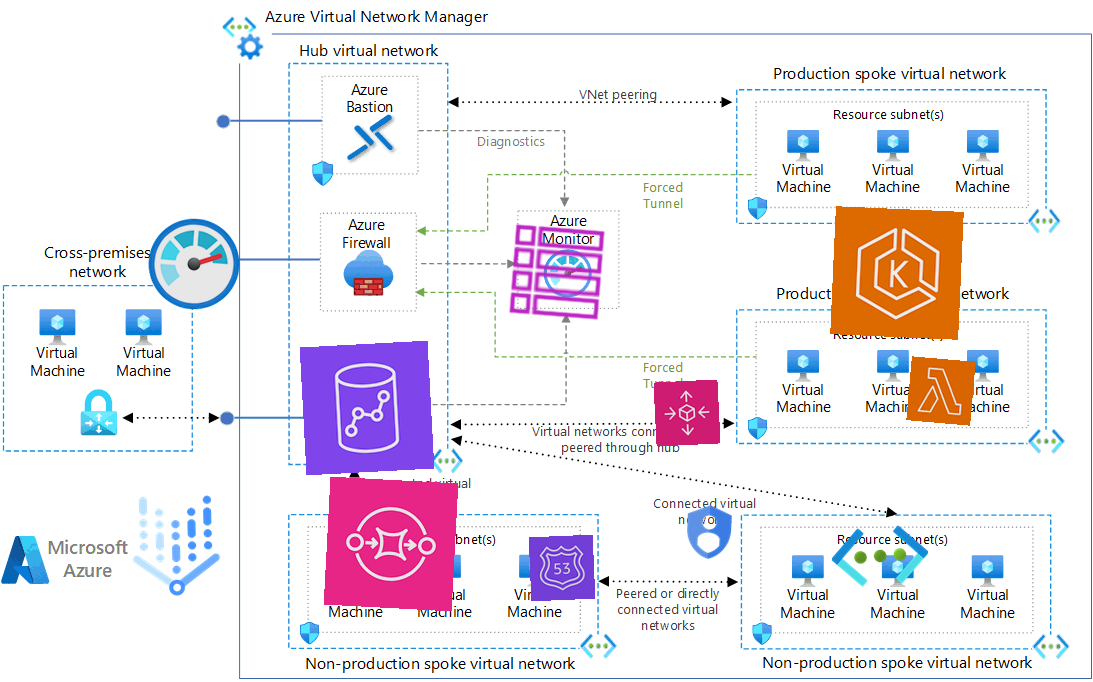aws_amazon_elastic_kubernetes_service: (830, 206, 964, 340)
aws_amazon_redshift: (299, 340, 435, 476)
aws_amazon_route_53: (528, 534, 596, 602)
aws_amazon_simple_queue_service: (323, 476, 459, 612)
aws_auto_scaling: (653, 379, 721, 447)
aws_dynamodb_table: (505, 220, 609, 324)
aws_lambda: (906, 356, 976, 426)
azure_monitor: (142, 212, 246, 316)
azure_virtual_networks: (828, 504, 932, 608)
gcp_identity_and_access_management: (675, 498, 743, 566)
gcp_vertex_ai: (110, 480, 242, 612)
